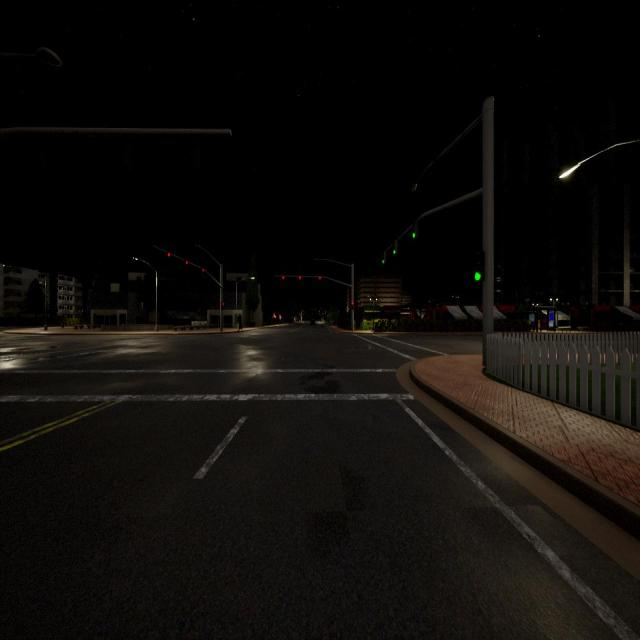Pedestrian: (238, 314, 244, 333)
Vehicle: (310, 319, 315, 326)
traffic_light: (474, 251, 485, 283), (412, 221, 419, 239), (393, 240, 397, 254), (382, 251, 386, 264), (351, 301, 355, 310), (221, 302, 224, 310), (167, 252, 171, 257), (298, 276, 302, 280), (318, 276, 322, 280), (185, 260, 189, 264), (282, 275, 284, 280), (202, 268, 204, 273)
